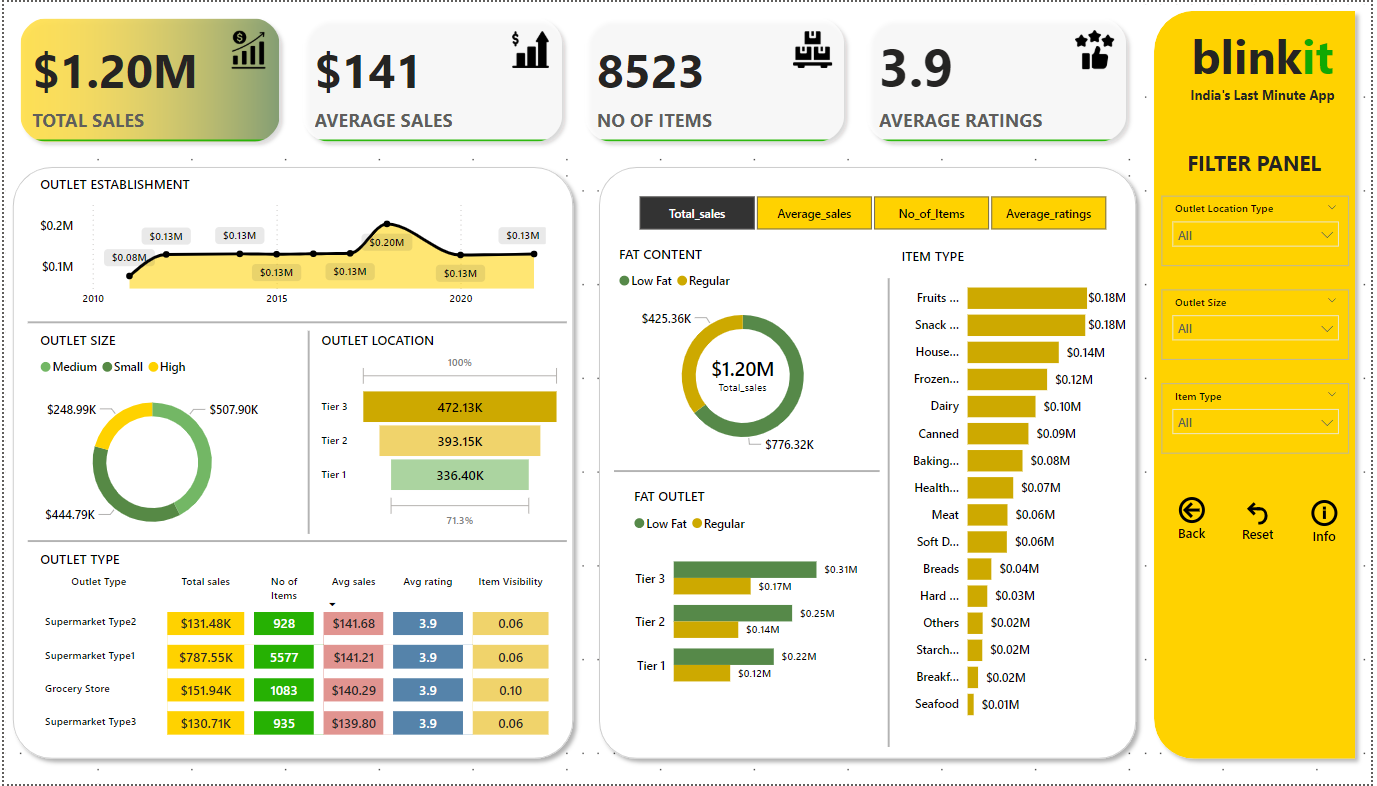

Layout of this report page (visuals, bound fields, positions):
{"tool":"powerbi","page":{"name":"Page 1","canvas":[1400,800],"ordinal":0},"visuals":[{"type":"shape","box":[1168,0,224,784],"z":0},{"type":"textbox","box":[1200,16,176,80],"z":1000},{"type":"textbox","box":[1200,80,176,32],"z":2000},{"type":"cardVisual","fields":{"Data":["BlinkIT Grocery Data.Total_sales","BlinkIT Grocery Data.Average_sales","BlinkIT Grocery Data.No_of_Items","BlinkIT Grocery Data.Average_ratings"]},"box":[0,0,1168,160],"z":3000},{"type":"shape","box":[600,160,568,624],"z":4000},{"type":"slicer","fields":{"Values":["Metrics.Metrics"]},"box":[624,192,528,48],"z":5000},{"type":"donutChart","title":"FAT CONTENT","fields":{"Y":["BlinkIT Grocery Data.Total_sales"],"Category":["BlinkIT Grocery Data.Item Fat Content"]},"box":[624,248,264,224],"z":6000},{"type":"cardVisual","fields":{"Data":["BlinkIT Grocery Data.Total_sales"]},"box":[696,344,120,72],"z":7000},{"type":"clusteredBarChart","title":"FAT OUTLET","fields":{"Y":["BlinkIT Grocery Data.Total_sales"],"Category":["BlinkIT Grocery Data.Outlet Location Type"],"Series":["BlinkIT Grocery Data.Item Fat Content"]},"box":[640,496,240,224],"z":8000},{"type":"shape","box":[624,472,272,16],"z":9000},{"type":"shape","box":[882,282.7,48,480],"z":10000},{"type":"barChart","title":"ITEM TYPE","fields":{"Y":["BlinkIT Grocery Data.Total_sales"],"Category":["BlinkIT Grocery Data.Item Type"]},"box":[914,250.7,240,496],"z":11000},{"type":"shape","box":[0,160,592,624],"z":12000},{"type":"lineChart","title":"OUTLET ESTABLISHMENT","fields":{"Category":["BlinkIT Grocery Data.Outlet Establishment Year"],"Y":["BlinkIT Grocery Data.Total_sales"]},"box":[32,176,528,144],"z":13000},{"type":"shape","box":[24,320,552,16],"z":14000},{"type":"donutChart","title":"OUTLET SIZE","fields":{"Y":["BlinkIT Grocery Data.Total_sales"],"Category":["BlinkIT Grocery Data.Outlet Size"]},"box":[32,336,240,224],"z":15000},{"type":"shape","box":[288,336,48,208],"z":16000},{"type":"funnel","title":"OUTLET LOCATION","fields":{"Y":["Sum(BlinkIT Grocery Data.Sales)"],"Category":["BlinkIT Grocery Data.Outlet Location Type"]},"box":[320,336,256,208],"z":17000},{"type":"shape","box":[24,544,552,16],"z":18000},{"type":"pivotTable","title":"OUTLET TYPE","fields":{"Rows":["BlinkIT Grocery Data.Outlet Type"],"Values":["BlinkIT Grocery Data.Total_sales","BlinkIT Grocery Data.No_of_Items","BlinkIT Grocery Data.Average_sales","BlinkIT Grocery Data.Average_ratings","Avg(BlinkIT Grocery Data.Item Visibility)"]},"box":[32,560,544,208],"z":19000},{"type":"slicer","fields":{"Values":["BlinkIT Grocery Data.Outlet Location Type"]},"box":[1185.8,197.8,192,72],"z":20000},{"type":"slicer","fields":{"Values":["BlinkIT Grocery Data.Outlet Size"]},"box":[1185.8,293.8,192,72],"z":21000},{"type":"slicer","fields":{"Values":["BlinkIT Grocery Data.Item Type"]},"box":[1185.8,389.8,192,72],"z":22000},{"type":"textbox","box":[1184,144,192,48],"z":23000},{"type":"actionButton","box":[1184,496,64,64],"z":24000},{"type":"actionButton","box":[1256,504,56,56],"z":26000},{"type":"actionButton","box":[1320,488,64,88],"z":26002}]}

Visuals, with their boxes in screenshot pixels (x1, y1, x2, y2), scaled from the page's 1400x800 canvas onto the 1377x786 screenshot:
shape: <bbox>1149, 0, 1369, 770</bbox>
textbox: <bbox>1180, 16, 1353, 94</bbox>
textbox: <bbox>1180, 79, 1353, 110</bbox>
cardVisual - BlinkIT Grocery Data.Total_sales x BlinkIT Grocery Data.Average_sales: <bbox>0, 0, 1149, 157</bbox>
shape: <bbox>590, 157, 1149, 770</bbox>
slicer - Metrics.Metrics: <bbox>614, 189, 1133, 236</bbox>
"FAT CONTENT" donutChart: <bbox>614, 244, 873, 464</bbox>
cardVisual - BlinkIT Grocery Data.Total_sales: <bbox>685, 338, 803, 409</bbox>
"FAT OUTLET" clusteredBarChart: <bbox>629, 487, 866, 707</bbox>
shape: <bbox>614, 464, 881, 479</bbox>
shape: <bbox>868, 278, 915, 749</bbox>
"ITEM TYPE" barChart: <bbox>899, 246, 1135, 734</bbox>
shape: <bbox>0, 157, 582, 770</bbox>
"OUTLET ESTABLISHMENT" lineChart: <bbox>31, 173, 551, 314</bbox>
shape: <bbox>24, 314, 567, 330</bbox>
"OUTLET SIZE" donutChart: <bbox>31, 330, 268, 550</bbox>
shape: <bbox>283, 330, 330, 534</bbox>
"OUTLET LOCATION" funnel: <bbox>315, 330, 567, 534</bbox>
shape: <bbox>24, 534, 567, 550</bbox>
"OUTLET TYPE" pivotTable: <bbox>31, 550, 567, 755</bbox>
slicer - BlinkIT Grocery Data.Outlet Location Type: <bbox>1166, 194, 1355, 265</bbox>
slicer - BlinkIT Grocery Data.Outlet Size: <bbox>1166, 289, 1355, 359</bbox>
slicer - BlinkIT Grocery Data.Item Type: <bbox>1166, 383, 1355, 454</bbox>
textbox: <bbox>1165, 141, 1353, 189</bbox>
actionButton: <bbox>1165, 487, 1227, 550</bbox>
actionButton: <bbox>1235, 495, 1290, 550</bbox>
actionButton: <bbox>1298, 479, 1361, 566</bbox>
